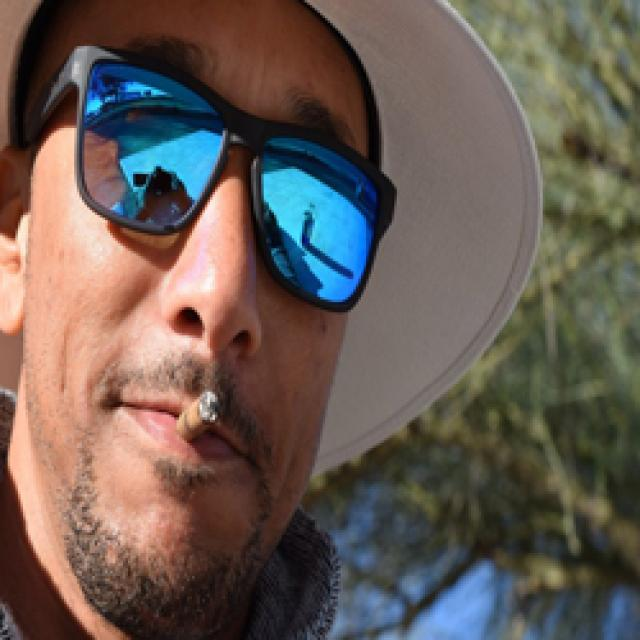Smooking: (157, 376, 234, 446)
